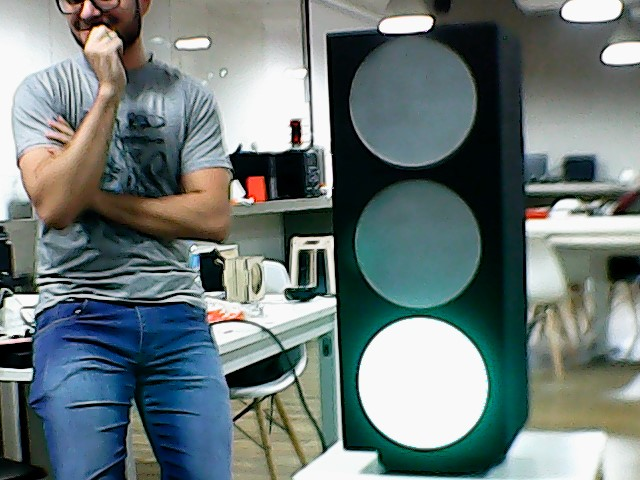verde: (307, 22, 547, 459)
